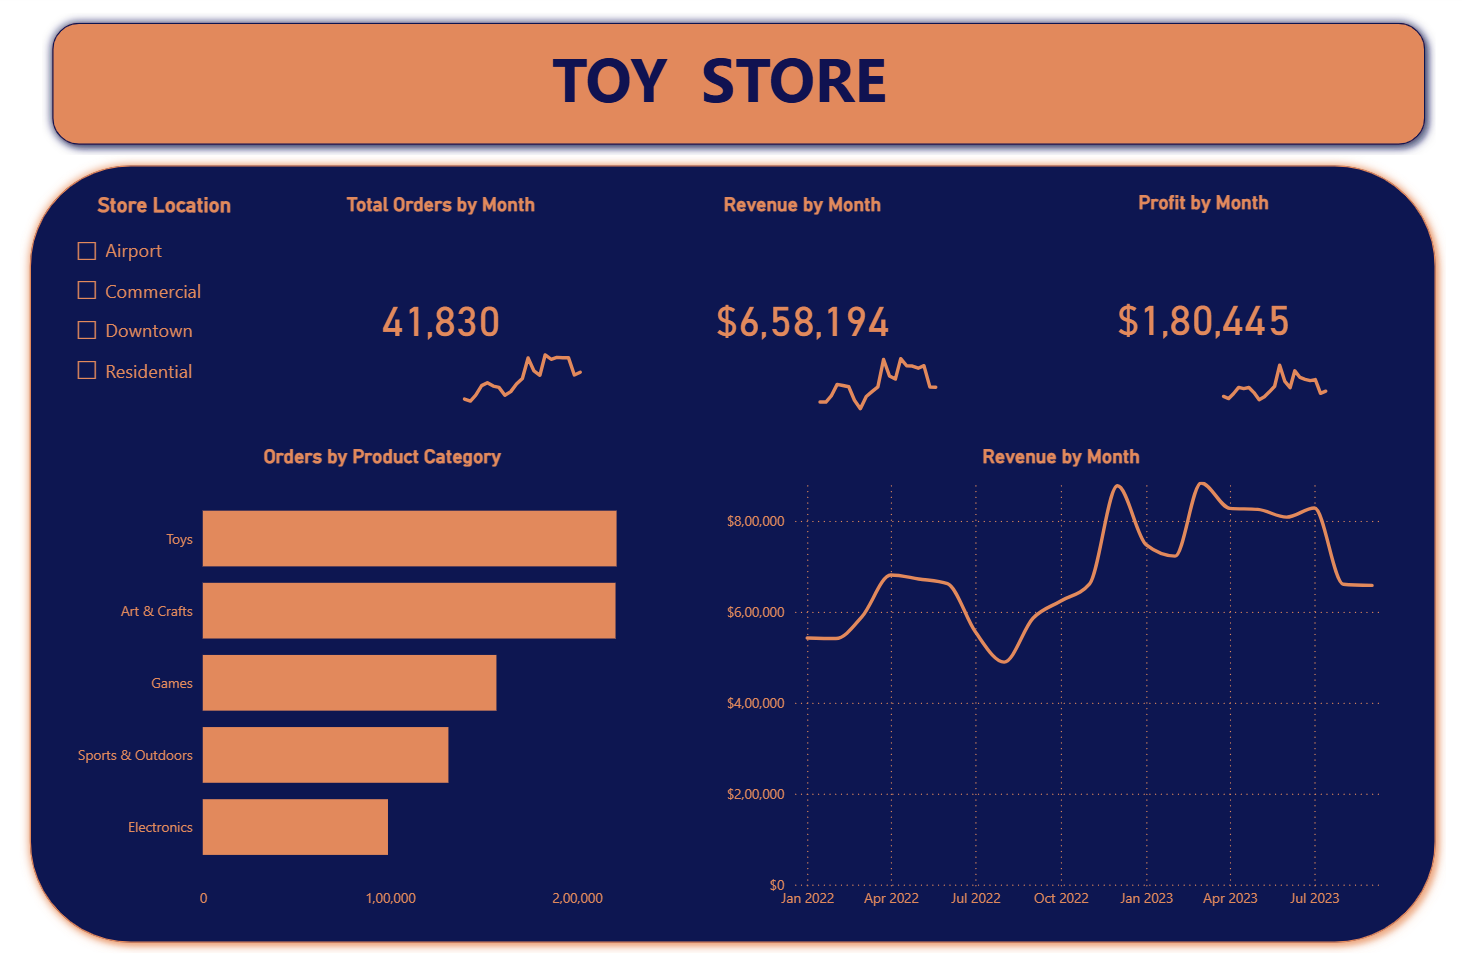

What the dashboard file says about the page in this screenshot:
{"tool":"powerbi","page":{"name":"Page 1","canvas":[1280,864],"ordinal":0},"visuals":[{"type":"shape","box":[17.1,141.8,1248.7,698.6],"z":0},{"type":"kpi","title":"Total Orders by Month","fields":{"Indicator":["sales.Total Orders"],"TrendLine":["calendar.Start of Month"]},"box":[249.5,174.6,273.1,204.8],"z":1000},{"type":"kpi","title":"Revenue by Month","fields":{"Indicator":["sales.Revenue (M)"],"TrendLine":["calendar.Start of Month"]},"box":[538.4,174.6,328.3,204.8],"z":2000},{"type":"kpi","title":"Profit by Month","fields":{"Indicator":["sales.Profit (M)"],"TrendLine":["calendar.Start of Month"]},"box":[881.1,173.3,345.3,206.2],"z":3000},{"type":"slicer","title":"Store Location","fields":{"Values":["stores.Store_Location"]},"box":[55.1,174.6,177.3,203.5],"z":4000},{"type":"clusteredBarChart","title":" Orders by Product Category","fields":{"Y":["sales.Total Orders"],"Category":["products.Product_Category"]},"box":[55.1,395.2,559.4,414.9],"z":5000},{"type":"lineChart","title":"Revenue by Month","fields":{"Category":["calendar.Start of Month Hierarchy.Start of Month","calendar.Start of Month Hierarchy.Start of Week","calendar.Start of Month Hierarchy.Date"],"Y":["sales.Revenue (M)"]},"box":[630.3,395.2,597.4,414.9],"z":6000},{"type":"shape","box":[36.8,17.1,1219.8,124.7],"z":7000},{"type":"textbox","box":[463.5,32.8,369,93.2],"z":8000},{"type":"lineChart","fields":{"Y":["sales.Total Orders"],"Category":["calendar.Start of Month.Variation.Date Hierarchy.Year","calendar.Start of Month.Variation.Date Hierarchy.Quarter","calendar.Start of Month.Variation.Date Hierarchy.Month","calendar.Start of Month.Variation.Date Hierarchy.Day"]},"box":[391.3,302,131.3,77.5],"z":9000},{"type":"lineChart","fields":{"Category":["calendar.Start of Month.Variation.Date Hierarchy.Year","calendar.Start of Month.Variation.Date Hierarchy.Quarter","calendar.Start of Month.Variation.Date Hierarchy.Month","calendar.Start of Month.Variation.Date Hierarchy.Day"],"Y":["sales.Revenue (M)"]},"box":[702.5,292.8,131.3,86.7],"z":10000},{"type":"lineChart","fields":{"Category":["calendar.Start of Month.Variation.Date Hierarchy.Year","calendar.Start of Month.Variation.Date Hierarchy.Quarter","calendar.Start of Month.Variation.Date Hierarchy.Month","calendar.Start of Month.Variation.Date Hierarchy.Day"],"Y":["sales.Profit (M)"]},"box":[1055.7,292.8,119.5,89.3],"z":11000}]}

Visuals, with their boxes in screenshot pixels (x1, y1, x2, y2), scaled from the page's 1280x864 canvas onto the 1462x976 screenshot:
shape: (x1=20, y1=160, x2=1446, y2=949)
"Total Orders by Month" kpi: (x1=285, y1=197, x2=597, y2=429)
"Revenue by Month" kpi: (x1=615, y1=197, x2=990, y2=429)
"Profit by Month" kpi: (x1=1006, y1=196, x2=1401, y2=429)
"Store Location" slicer: (x1=63, y1=197, x2=265, y2=427)
" Orders by Product Category" clusteredBarChart: (x1=63, y1=446, x2=702, y2=915)
"Revenue by Month" lineChart: (x1=720, y1=446, x2=1402, y2=915)
shape: (x1=42, y1=19, x2=1435, y2=160)
textbox: (x1=529, y1=37, x2=951, y2=142)
lineChart - sales.Total Orders x calendar.Start of Month.Variation.Date Hierarchy.Year: (x1=447, y1=341, x2=597, y2=429)
lineChart - calendar.Start of Month.Variation.Date Hierarchy.Year x calendar.Start of Month.Variation.Date Hierarchy.Quarter: (x1=802, y1=331, x2=952, y2=429)
lineChart - calendar.Start of Month.Variation.Date Hierarchy.Year x calendar.Start of Month.Variation.Date Hierarchy.Quarter: (x1=1206, y1=331, x2=1342, y2=432)
